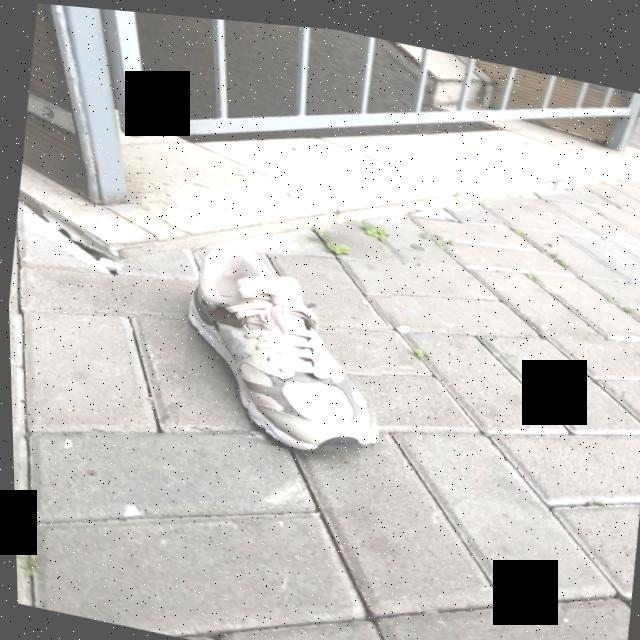shoe: (186, 240, 371, 447)
